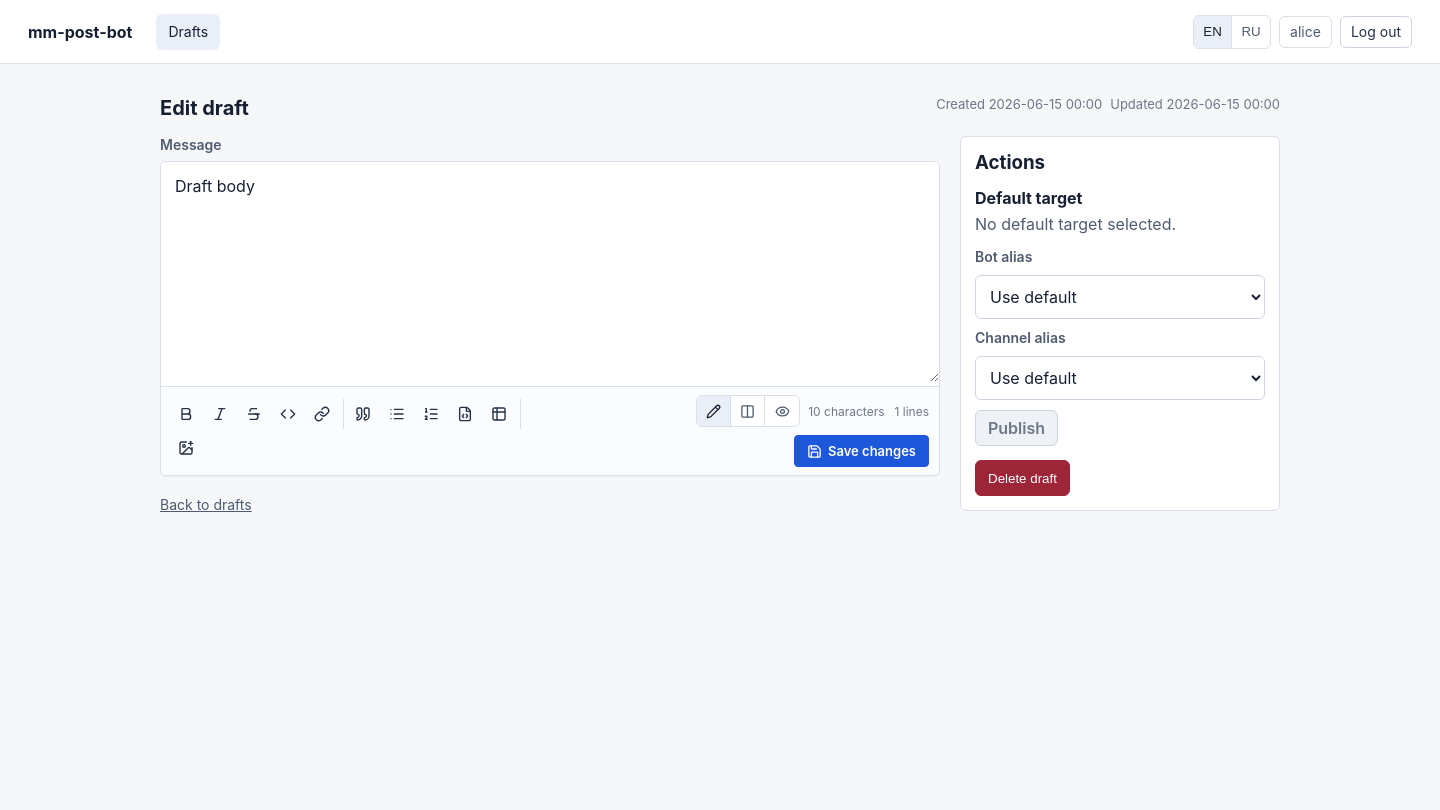
App › shows confirmation after saving a draft detail page
Replace the text in the text box labelled "Message" with "Draft body updated" at (550,272), box [161,162,939,382]
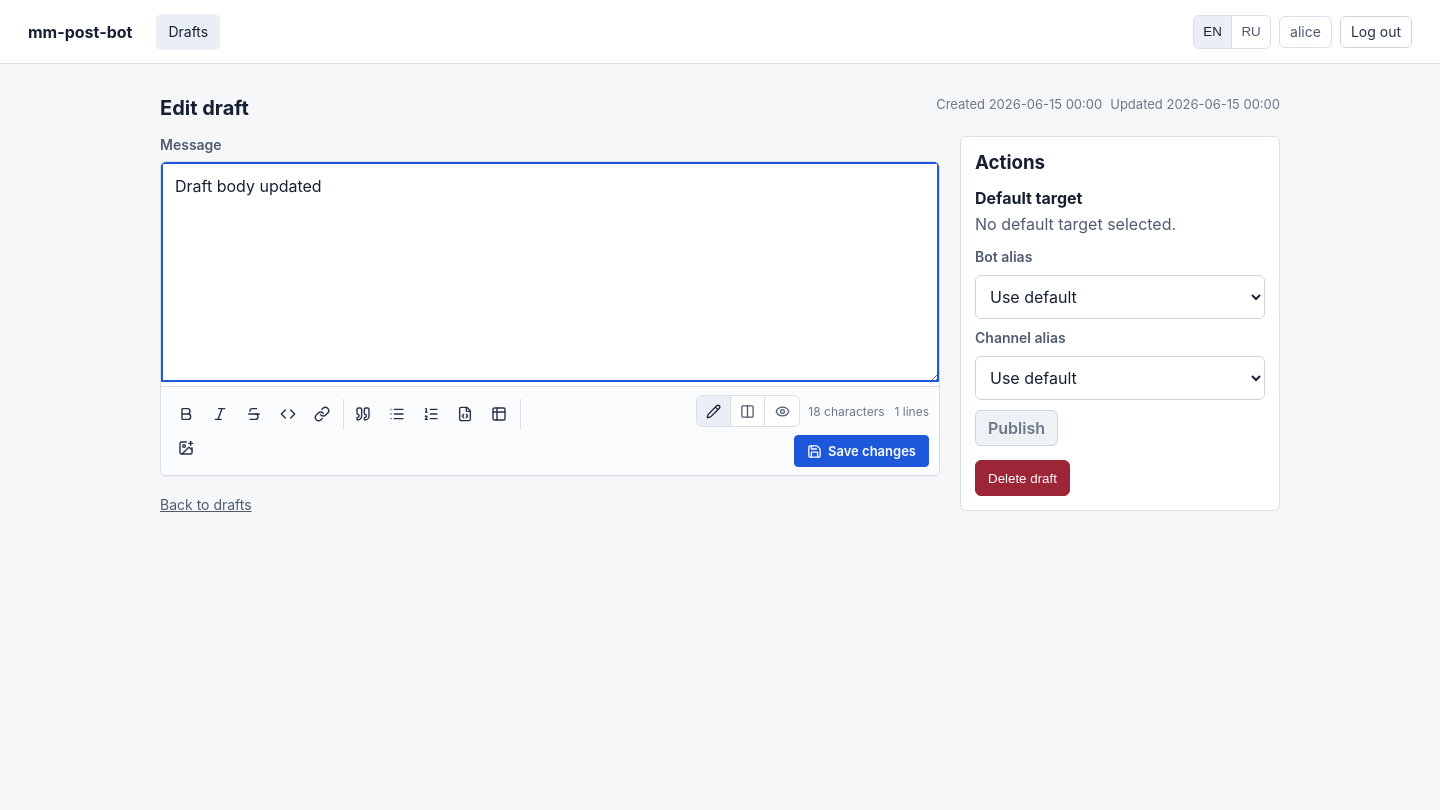
Click the button "Save changes" at (862,451), box [794,435,929,467]
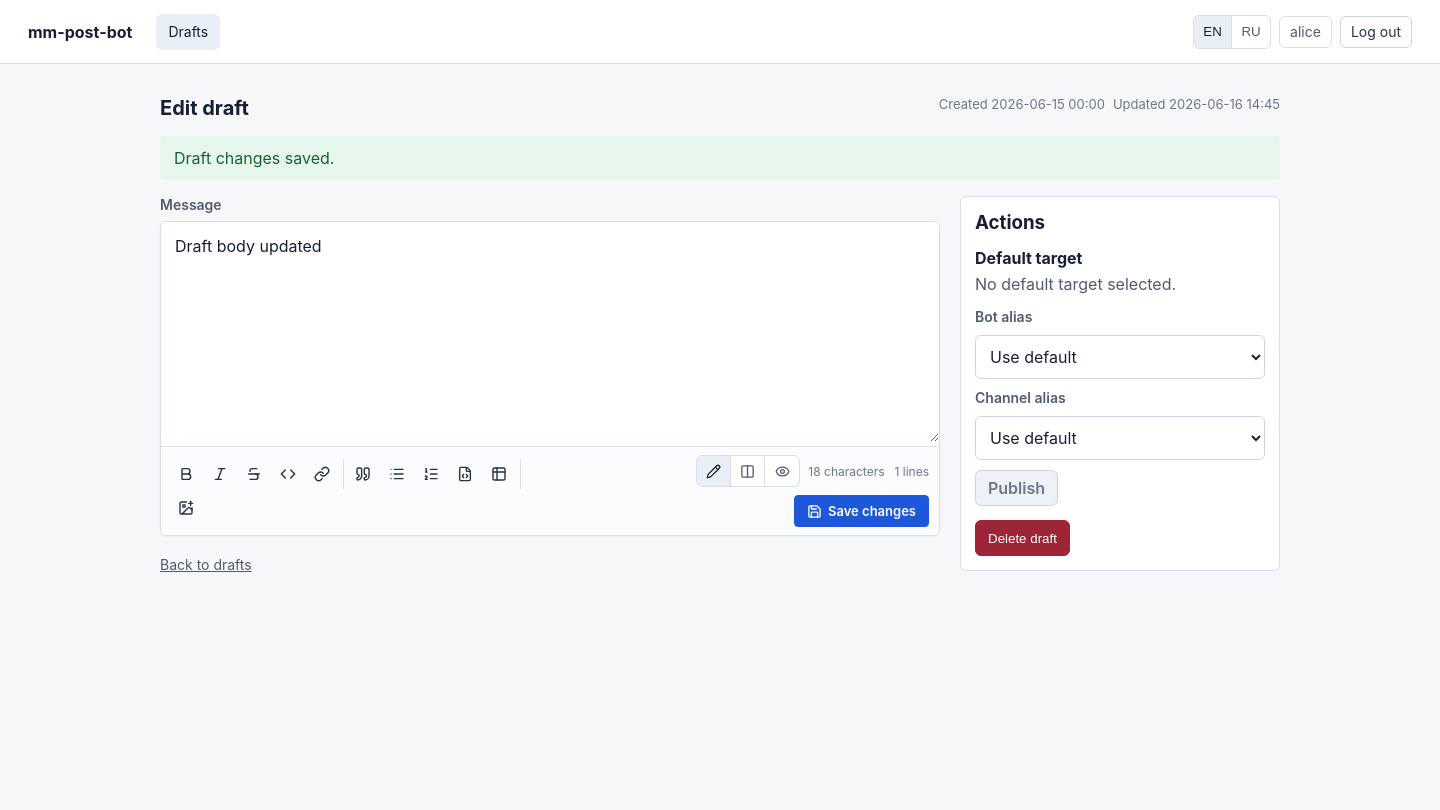
Expected: the message reads "Draft changes saved.", [174,148,334,168]
